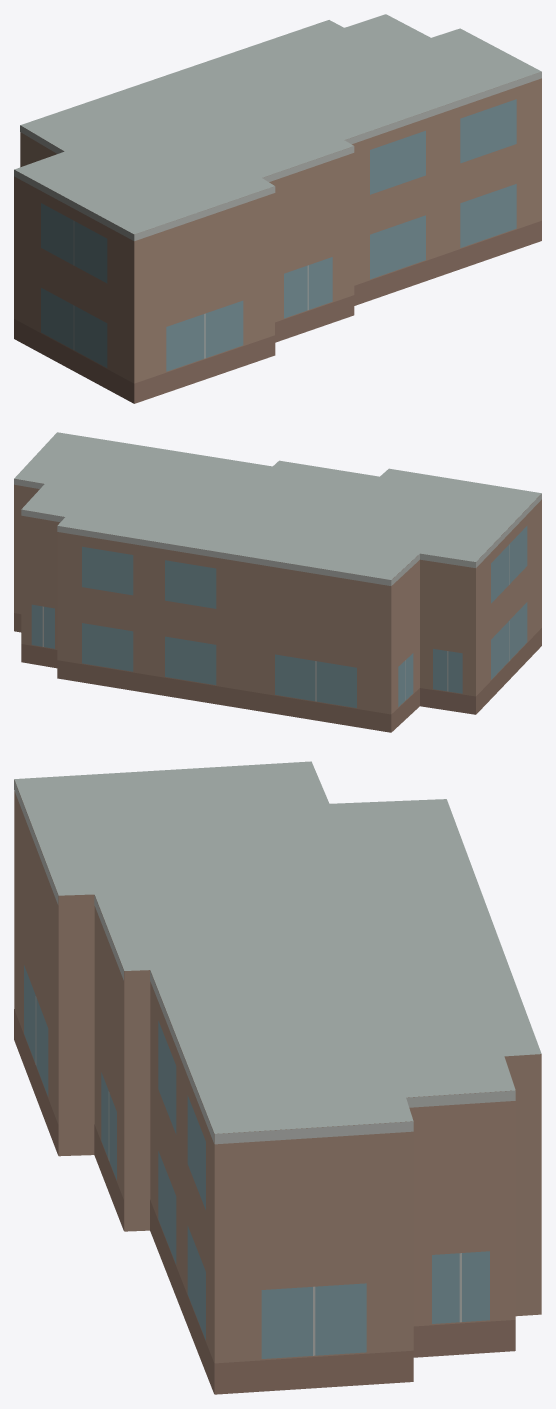
Rendered from survey-upis-32612132.glb.
3 renders of one model, top to bottom at view 1: azimuth 30°, elevation 25°; view 2: azimuth 150°, elevation 25°; view 3: azimuth 270°, elevation 25°, orthographic. The views are drawn at different scales.
Visible parts, largest first — view 1: survey-upis-32612132.tmp; view 2: survey-upis-32612132.tmp; view 3: survey-upis-32612132.tmp.
Boxes of the visible parts, x1,y1,x2,y2 form: survey-upis-32612132.tmp: [14, 14, 541, 403]; survey-upis-32612132.tmp: [14, 432, 541, 732]; survey-upis-32612132.tmp: [14, 761, 541, 1394].
Bounding box in the file's own units: 18.72 × 6.1 × 11.2.
